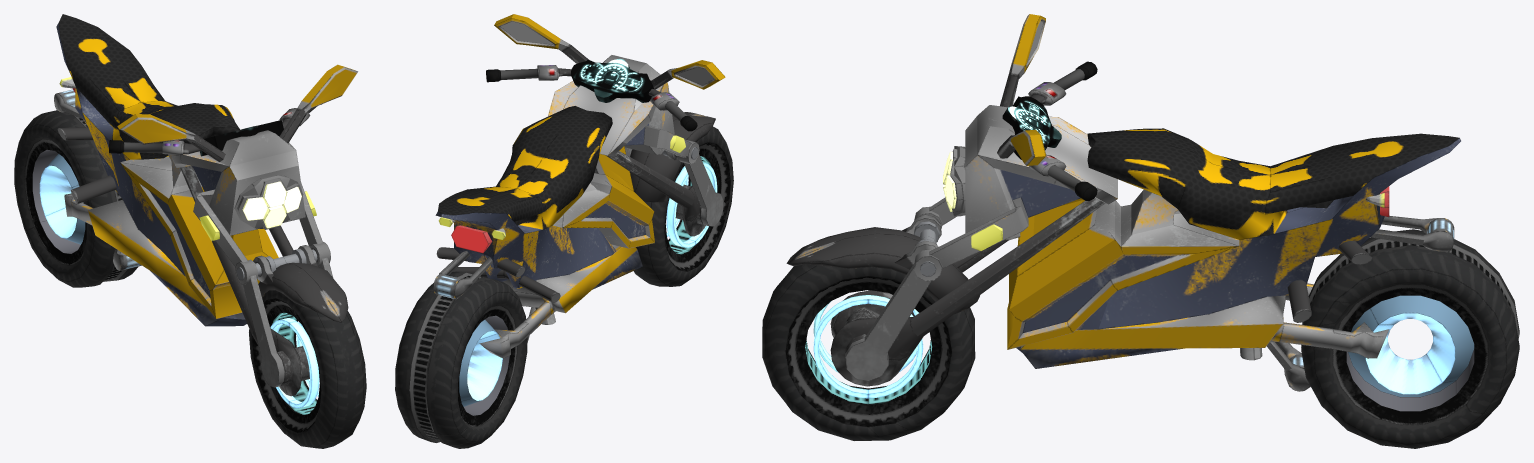
Rendered from Motorcycle.fbx.
3 views of the same model, side by side, from view 1: azimuth 30°, elevation 25°; view 2: azimuth 150°, elevation 25°; view 3: azimuth 270°, elevation 25° (orthographic). The views are drawn at different scales.
Parts seen in each view (by area): view 1: Front, Motorcycle, Wheel_Back, Wheel_Front; view 2: Motorcycle, Front, Wheel_Back, Wheel_Front, Gear_Top; view 3: Motorcycle, Front, Wheel_Back, Wheel_Front.
Boxes of the visible parts, <box> form: Front: <box>109,64,357,408</box>; Motorcycle: <box>54,14,278,326</box>; Wheel_Back: <box>14,110,137,287</box>; Wheel_Front: <box>249,290,366,448</box>; Motorcycle: <box>433,106,654,358</box>; Front: <box>486,14,725,247</box>; Wheel_Back: <box>395,271,527,448</box>; Wheel_Front: <box>633,126,733,286</box>; Gear_Top: <box>433,274,461,299</box>; Motorcycle: <box>1007,128,1460,391</box>; Front: <box>786,14,1117,398</box>; Wheel_Back: <box>1301,229,1519,448</box>; Wheel_Front: <box>762,264,975,440</box>.
Size of the model in its own units: 107 by 129 by 244.
Materials: 1 (1 with a texture image).
